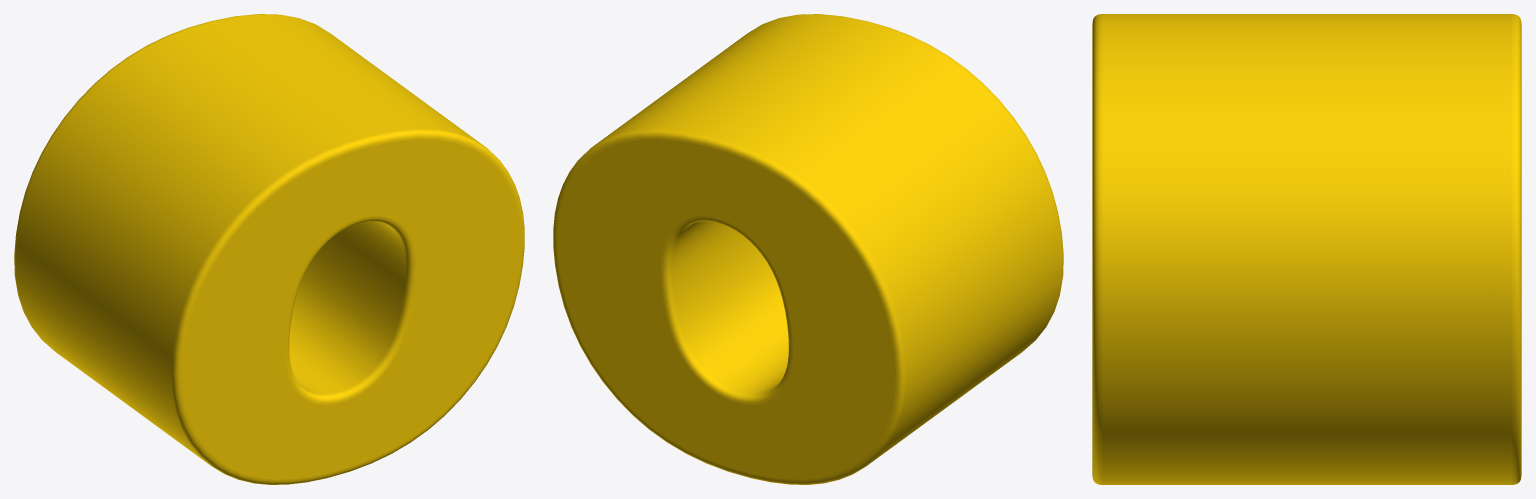
The picture shows the model from 3 angles, left to right: view 1: azimuth 30°, elevation 25°; view 2: azimuth 150°, elevation 25°; view 3: azimuth 270°, elevation 25°; orthographic projection. The views are drawn at different scales.
Visible parts, largest first — view 1: Text006; view 2: Text006; view 3: Text006.
Boxes of the visible parts, left/top/right/bottom form: Text006: left=14, top=14, right=524, bottom=484; Text006: left=553, top=14, right=1063, bottom=484; Text006: left=1092, top=14, right=1521, bottom=484.
Bounding box in the file's own units: 0.2863 × 0.2571 × 0.231.
